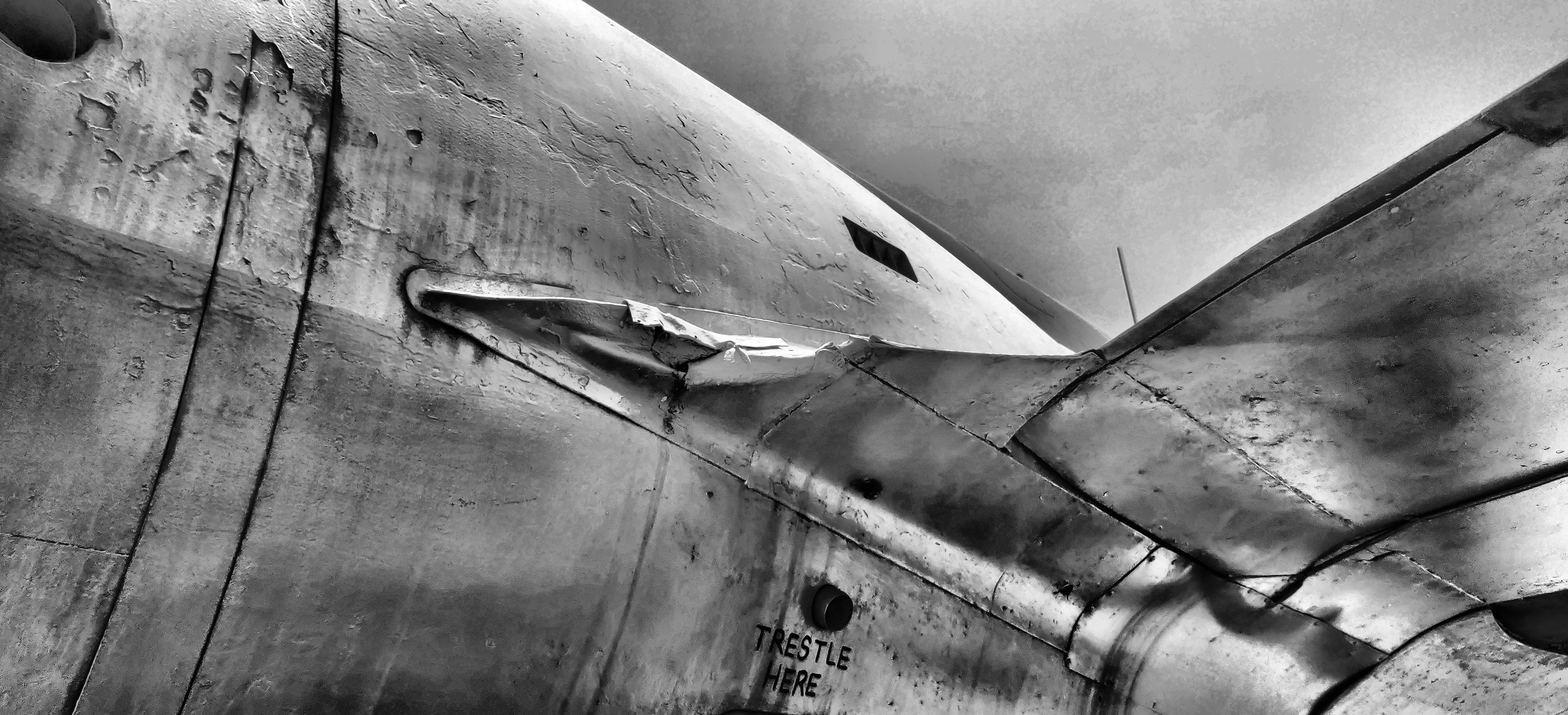crack: (864, 336, 900, 348), (821, 342, 844, 358)
dent: (568, 328, 686, 397), (1206, 584, 1326, 634)
paint-peel-off: (251, 34, 295, 97), (311, 225, 342, 273), (80, 93, 118, 128), (195, 91, 208, 108), (1053, 585, 1073, 595)
